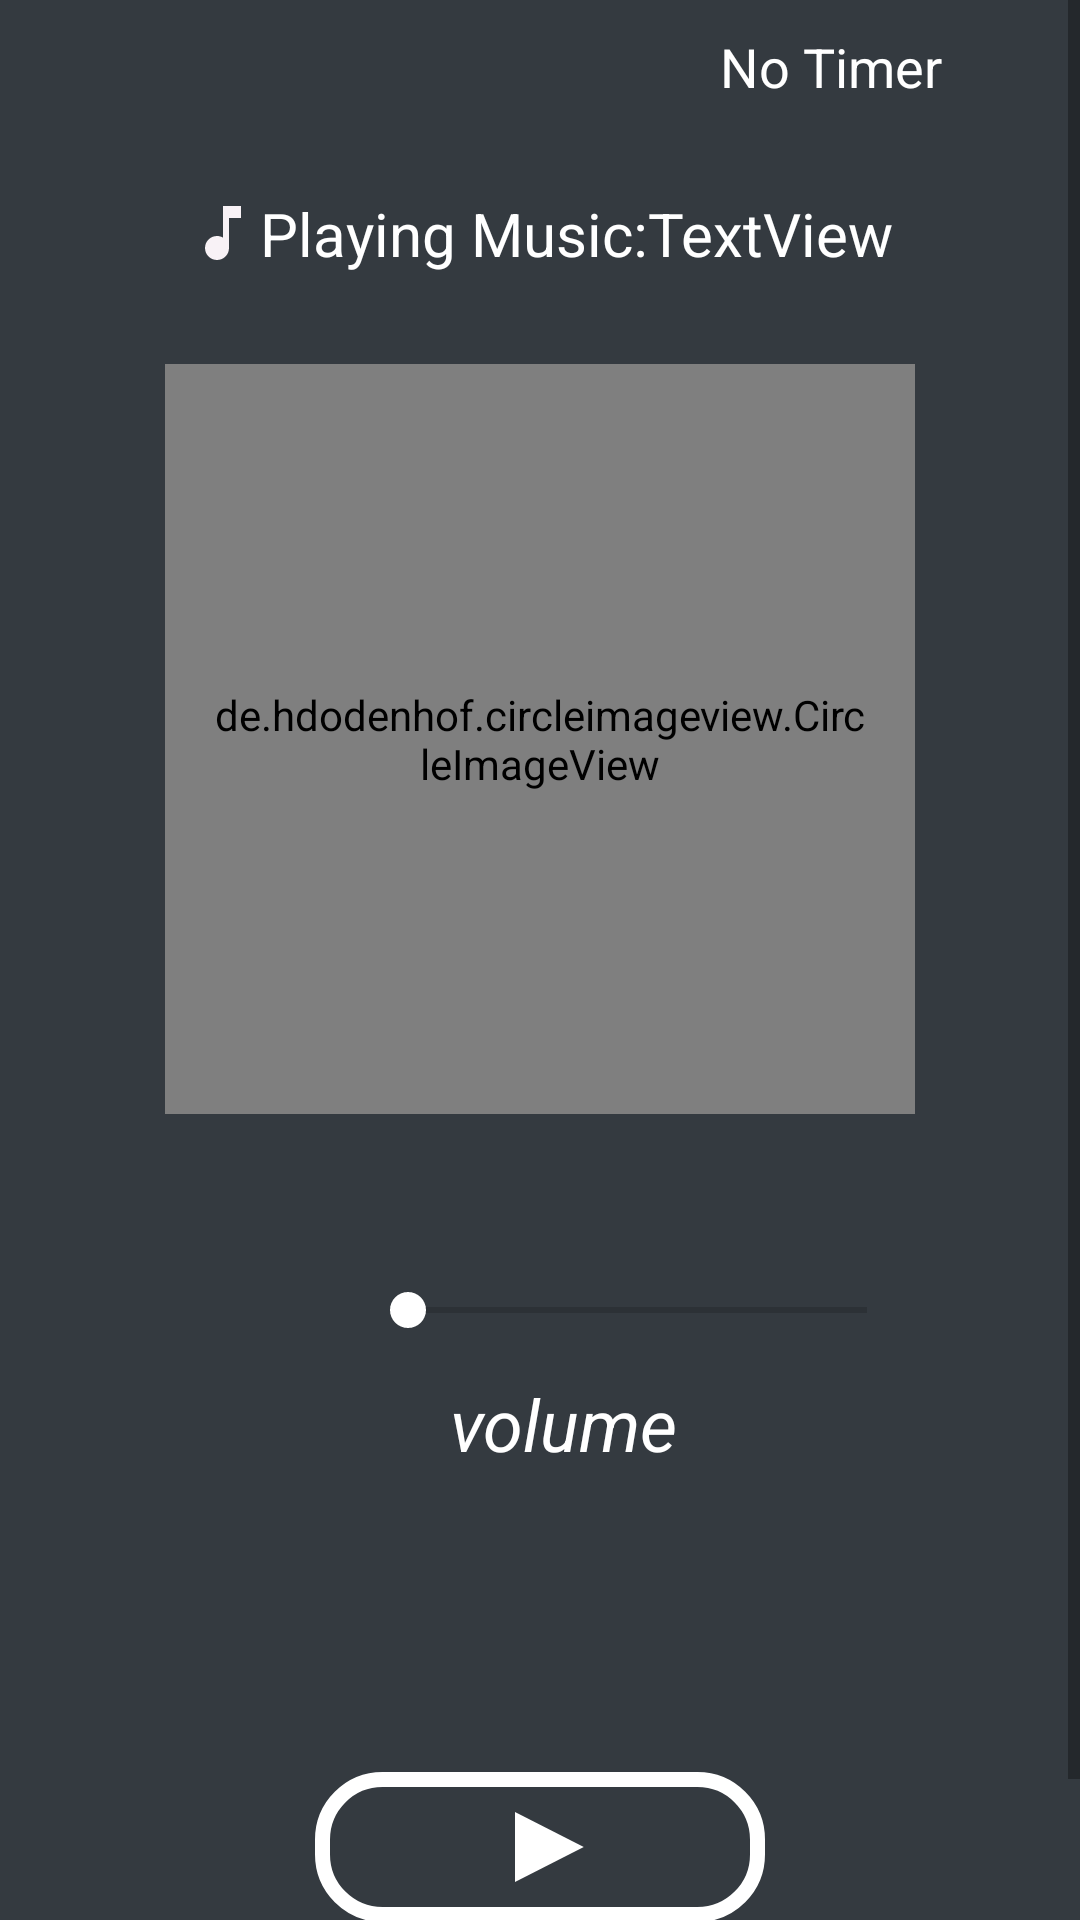

Named icons in this screenshot (1080*1920) and their centers, [x,y]:
music note: [223,233]
